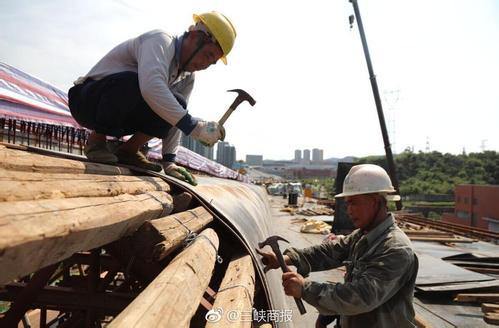helmet: (337, 163, 401, 229), (176, 9, 239, 76)
